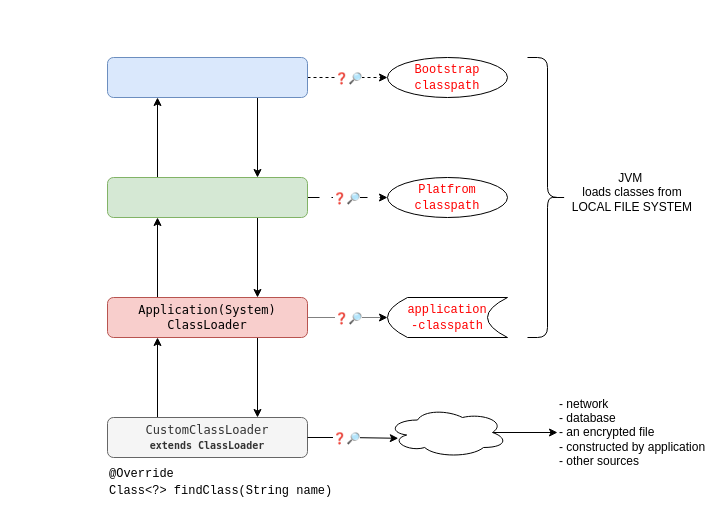
Image size: 724x524. Some labels were removed from this diagram. The shapes that lost their labels are listed below. From the top down, each one's box as (x1, y1, x2, y2) in pixels, then its label:
(106, 56, 308, 98): Bootstrap ClassLoader
(106, 176, 308, 218): Platform ClassLoader (Extension before java 9)
(386, 406, 508, 458): NON-LOCAL File System
